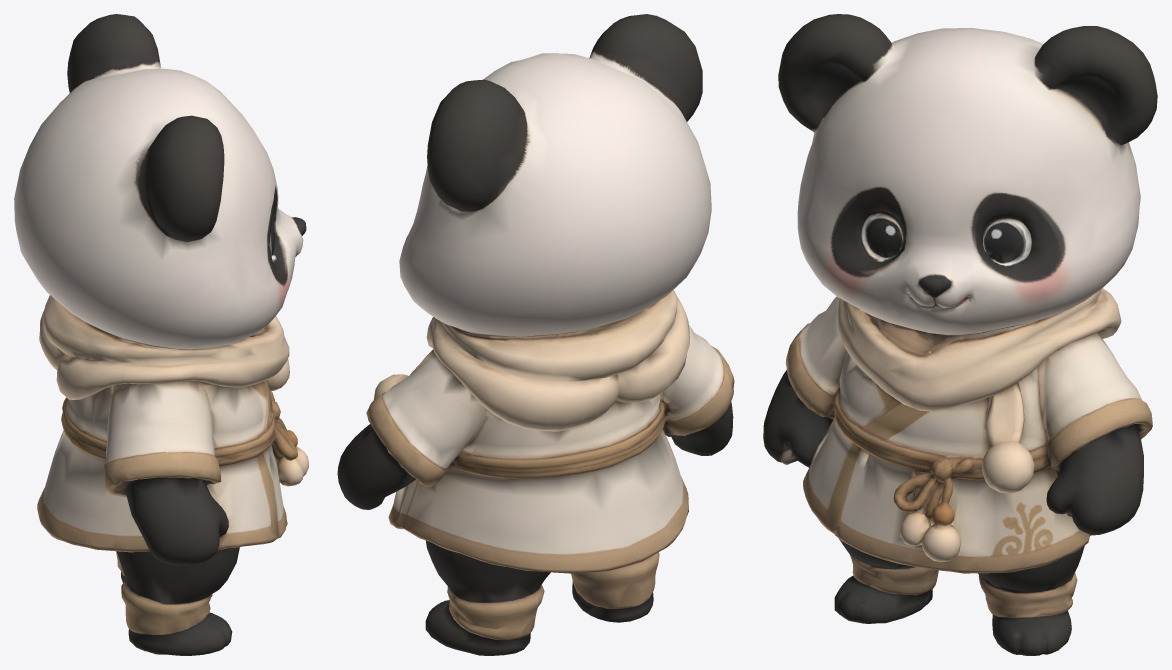
File: npc_panda.glb
3 views of the same model, side by side, from view 1: azimuth 30°, elevation 25°; view 2: azimuth 150°, elevation 25°; view 3: azimuth 270°, elevation 25° (orthographic). The views are drawn at different scales.
Visible parts, largest first — view 1: tripo_node_adb12b8e-a8d3-483c-a0cd-a76612001dc5; view 2: tripo_node_adb12b8e-a8d3-483c-a0cd-a76612001dc5; view 3: tripo_node_adb12b8e-a8d3-483c-a0cd-a76612001dc5.
Boxes of the visible parts, x1,y1,x2,y2 form: tripo_node_adb12b8e-a8d3-483c-a0cd-a76612001dc5: [14, 14, 308, 655]; tripo_node_adb12b8e-a8d3-483c-a0cd-a76612001dc5: [337, 14, 734, 655]; tripo_node_adb12b8e-a8d3-483c-a0cd-a76612001dc5: [763, 14, 1157, 655].
Bounding box in the file's own units: 0.5175 × 0.998 × 0.6003.
1 material, 1 textured.
